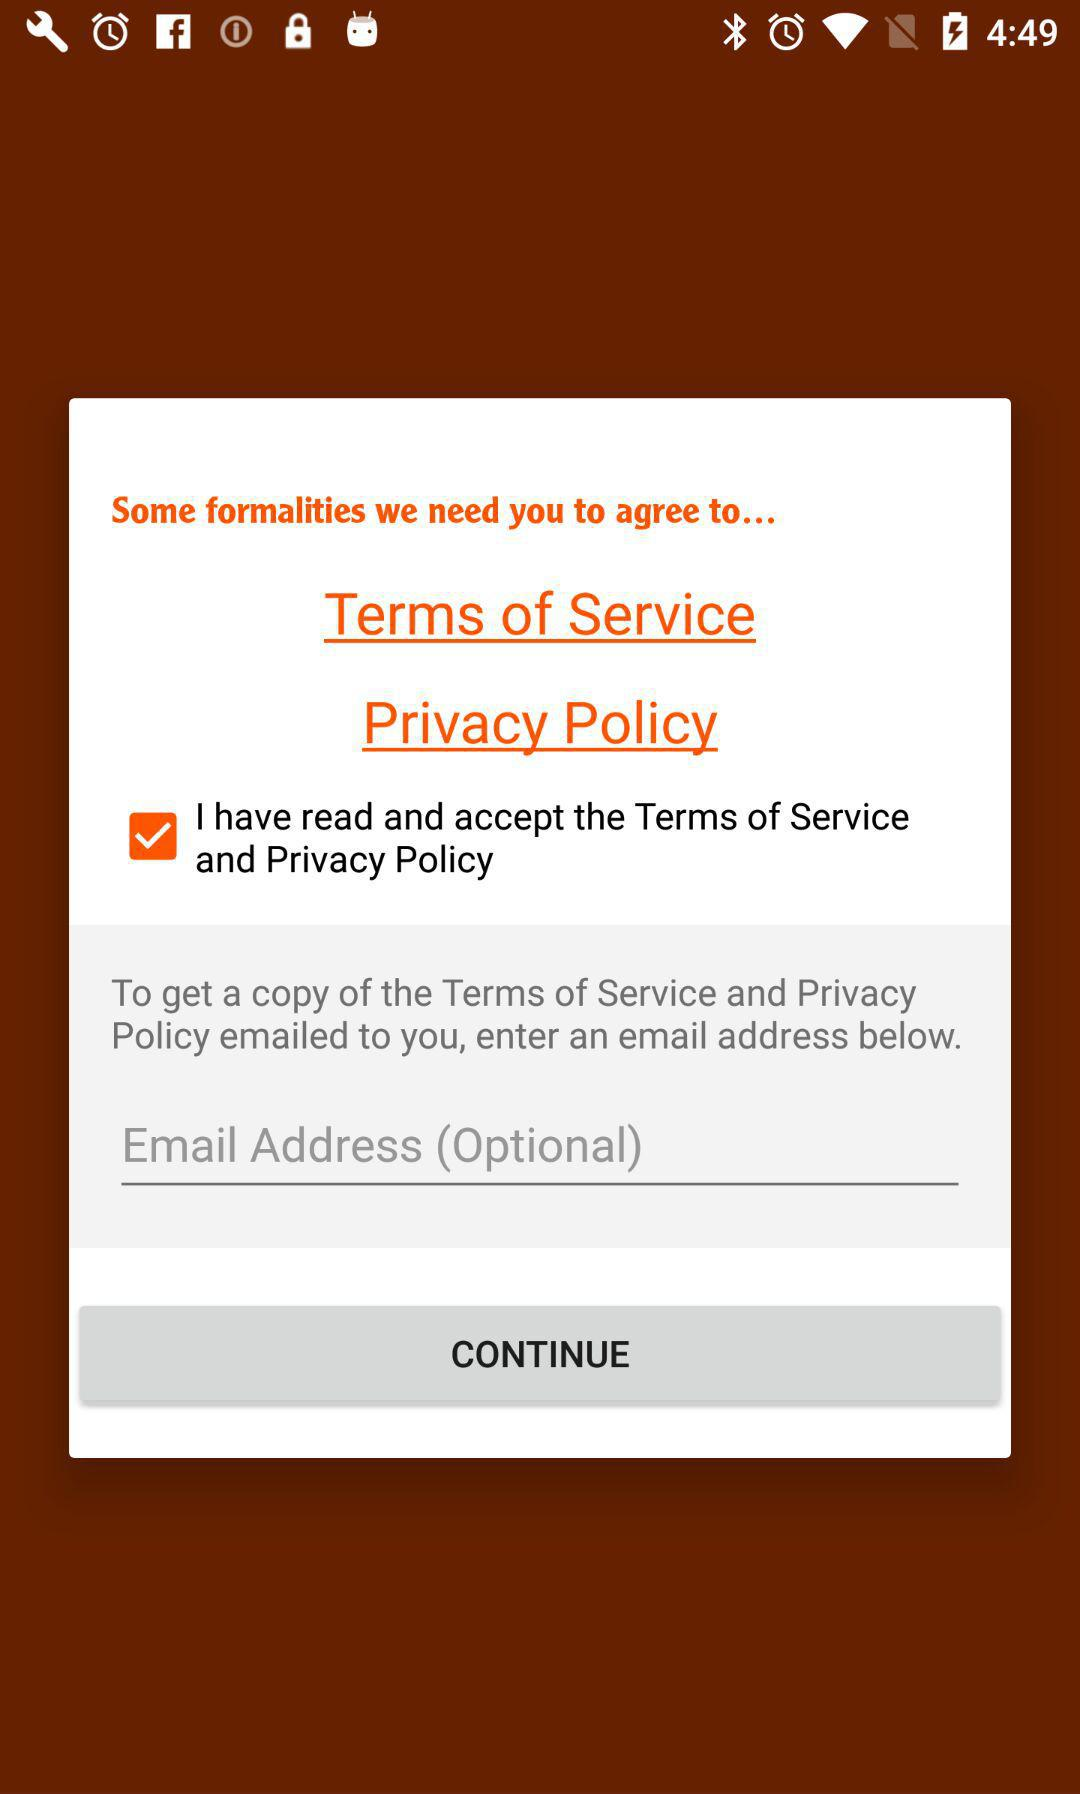CheckedTextView: (129, 801, 911, 882)
EditText: (120, 1123, 960, 1187)
Modal: (69, 399, 1012, 1460)
Text: (111, 976, 962, 1058), (196, 801, 910, 882), (126, 1124, 642, 1175), (111, 495, 776, 532), (324, 589, 757, 645), (363, 698, 719, 757)
TextButton: (79, 1304, 1003, 1408)
UpperTaskBar: (1, 1, 1080, 64)
